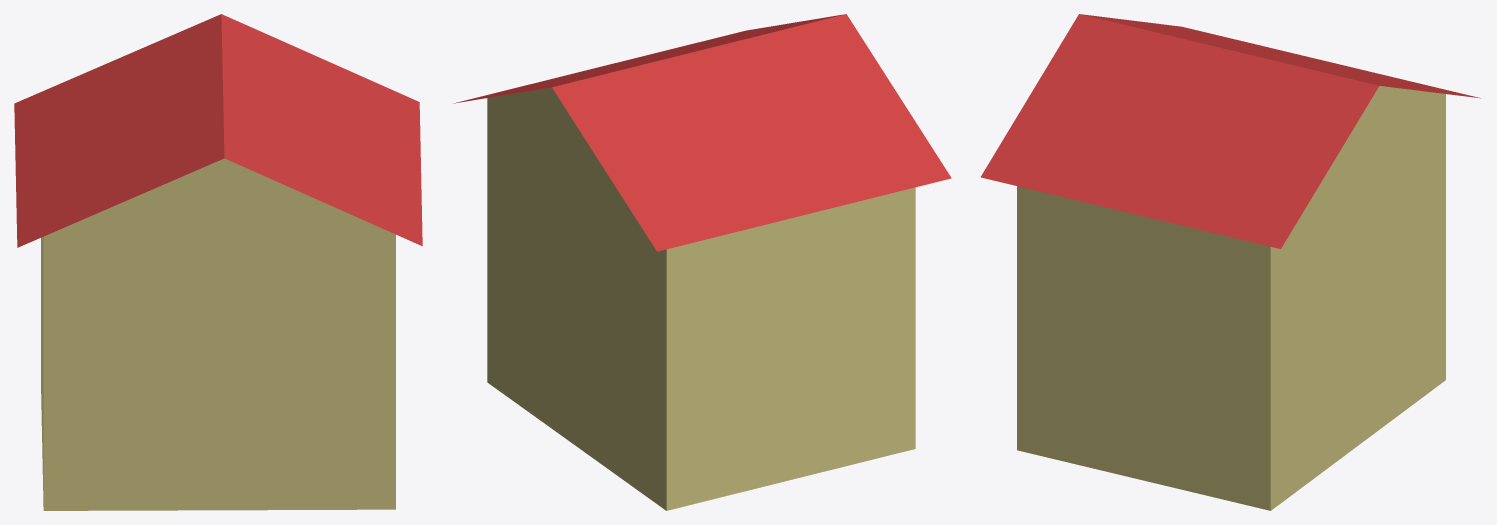
3 views of the same model, side by side, from view 1: azimuth 30°, elevation 25°; view 2: azimuth 150°, elevation 25°; view 3: azimuth 270°, elevation 25° (orthographic).
Visible parts, largest first — view 1: group_5, group_3, group_4; view 2: group_5, group_3, group_4; view 3: group_5, group_3, group_4.
Part boxes in pixels (x1,y1,x2,y2): group_5: (41,158,395,510); group_3: (14,14,422,246); group_4: (17,14,422,247); group_5: (487,87,915,510); group_3: (476,14,949,251); group_4: (453,14,951,219); group_5: (1017,86,1445,510); group_3: (981,14,1480,248); group_4: (1081,14,1379,248).
Size of the model in its own units: 14.75 by 14.07 by 11.34.
